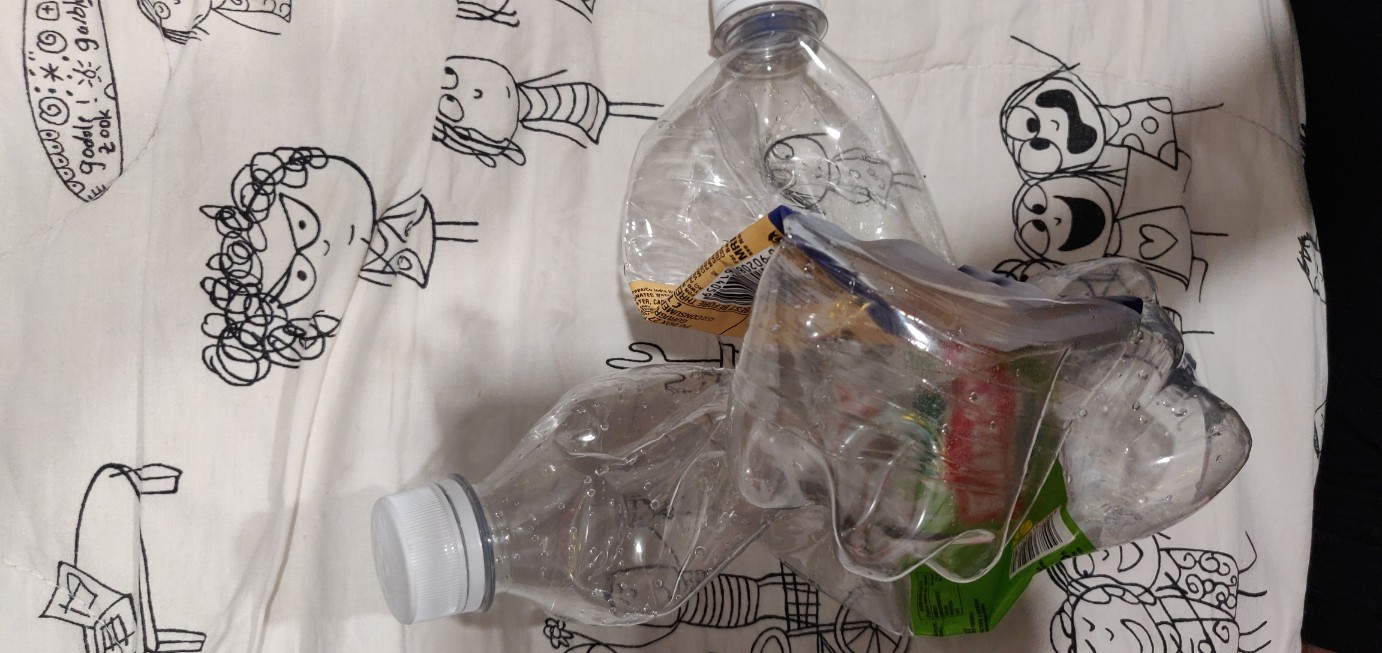Electronics: (333, 206, 1290, 648), (585, 1, 1094, 653)
